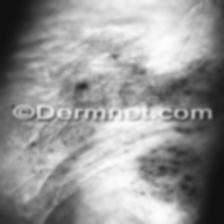Non-Cancerous Skin Condition: (45, 128, 205, 224), (47, 24, 223, 102)
